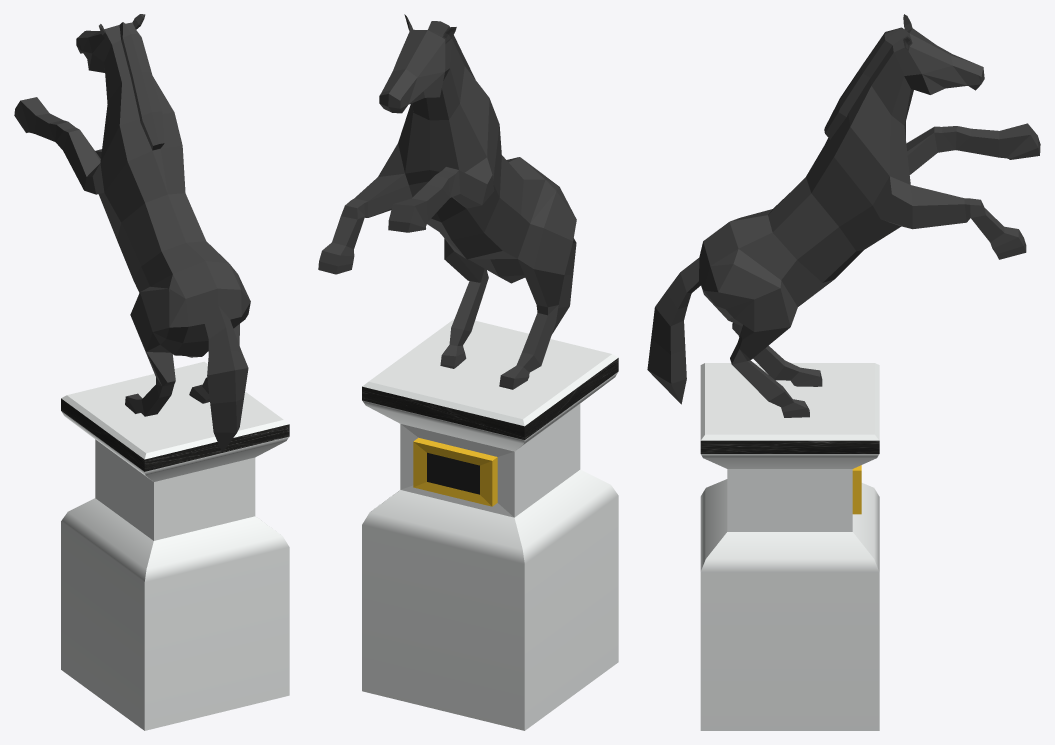
The model's file is Horse_Statue_Fractured.fbx.
3 views of the same model, side by side, from view 1: azimuth 30°, elevation 25°; view 2: azimuth 150°, elevation 25°; view 3: azimuth 270°, elevation 25° (orthographic). The views are drawn at different scales.
Parts seen in each view (by area): view 1: tuong_con_ngua, tuong_con_ngua.001; view 2: tuong_con_ngua, tuong_con_ngua.001; view 3: tuong_con_ngua, tuong_con_ngua.001.
Part boxes in pixels (box(x1,y1,x2,y2)): tuong_con_ngua: box(61, 361, 289, 730); tuong_con_ngua.001: box(14, 14, 250, 452); tuong_con_ngua: box(362, 319, 618, 730); tuong_con_ngua.001: box(318, 14, 576, 389); tuong_con_ngua: box(700, 363, 879, 730); tuong_con_ngua.001: box(647, 14, 1040, 417).
Size of the model in its own units: 2.5 by 10.29 by 5.5.
